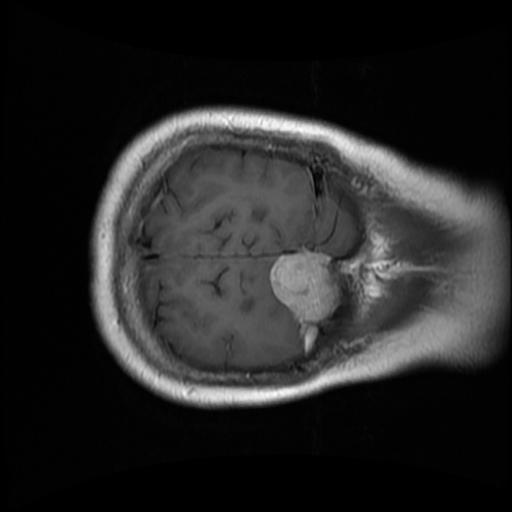meningioma: (266, 248, 344, 356)
